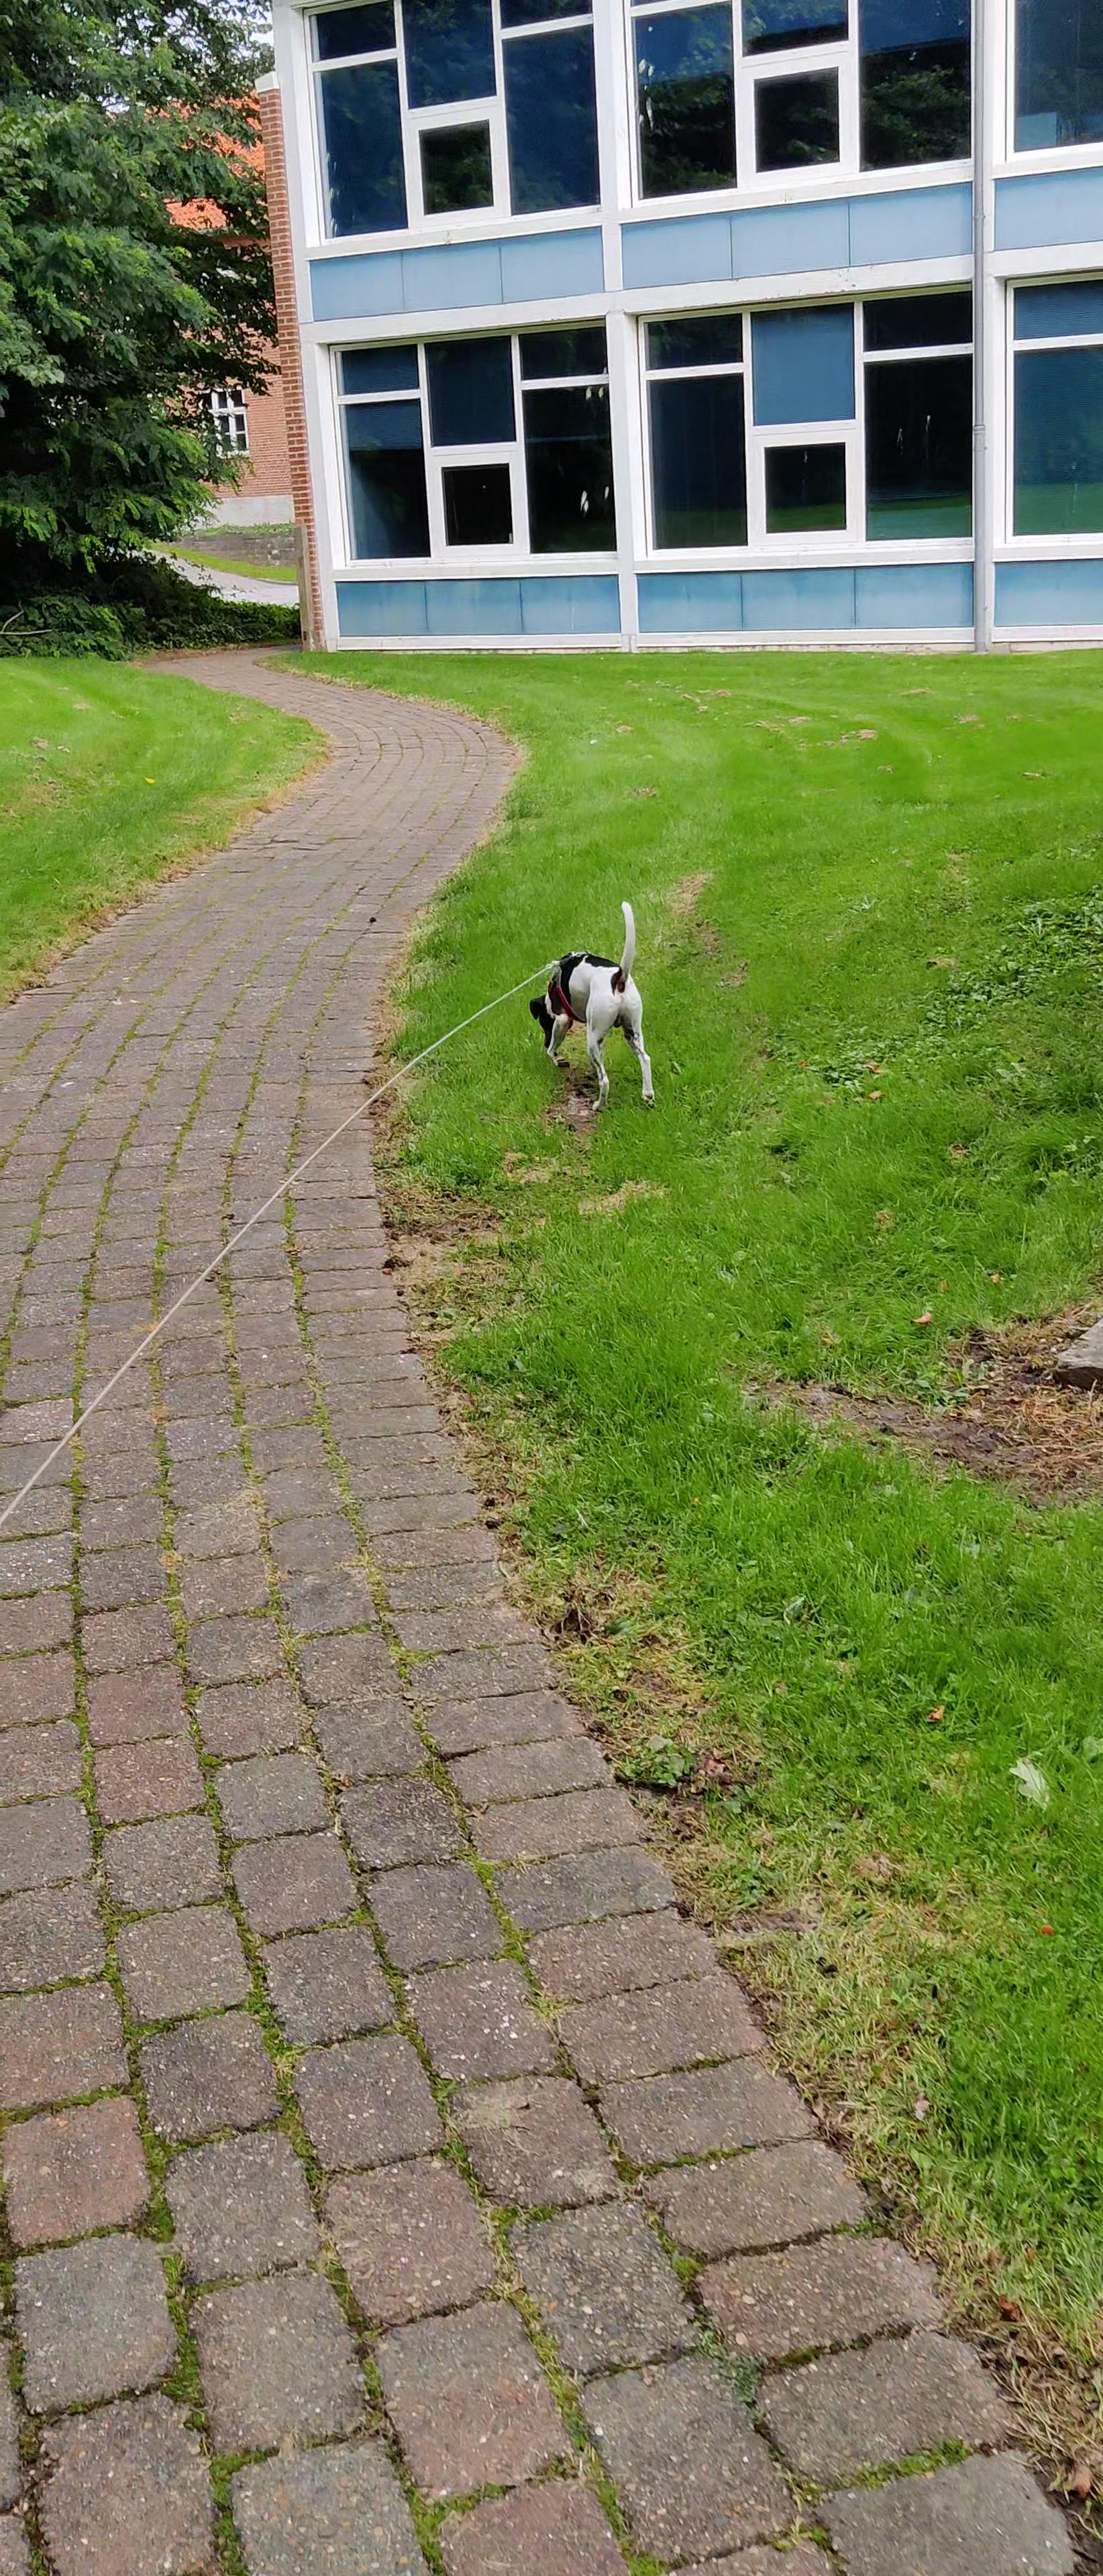Dog: (523, 899, 661, 1112)
